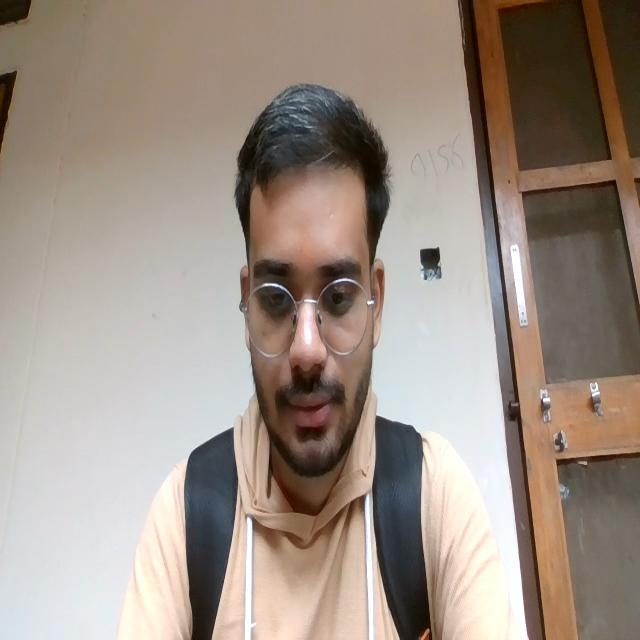drowsy: (248, 252, 360, 440)
